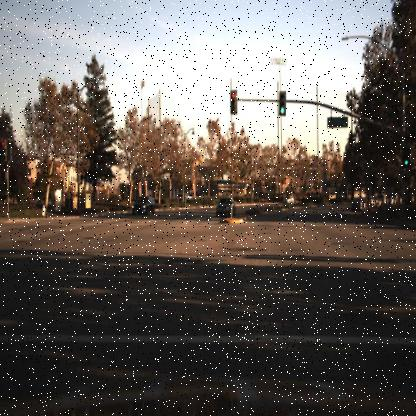car: (129, 192, 156, 221), (214, 192, 237, 222), (131, 196, 158, 214), (216, 194, 236, 216), (348, 192, 364, 212), (174, 189, 195, 202), (348, 195, 362, 213), (282, 191, 297, 206)
trafficLight-Green: (278, 89, 287, 117), (403, 142, 411, 170), (400, 154, 410, 167), (279, 101, 286, 119)
trafficLight-RedLeft: (230, 86, 240, 112), (231, 87, 238, 110)
